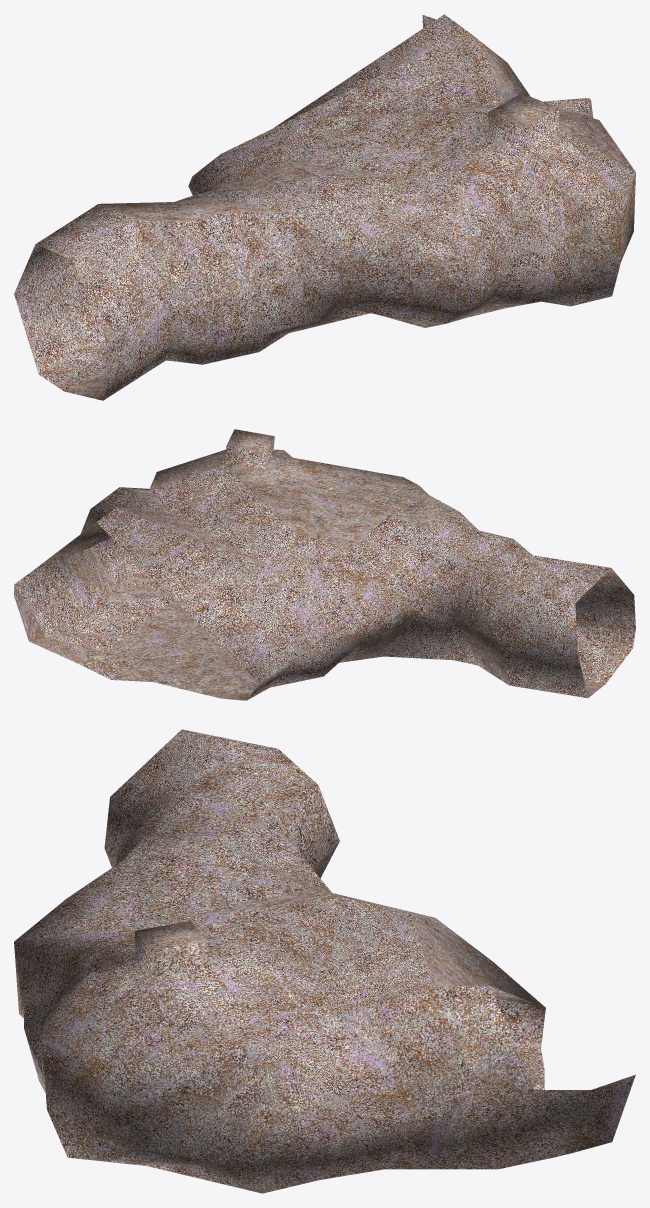
Rendered from Mine.fbx.
3 renders of one model, top to bottom at view 1: azimuth 30°, elevation 25°; view 2: azimuth 150°, elevation 25°; view 3: azimuth 270°, elevation 25°, orthographic. The views are drawn at different scales.
Parts seen in each view (by area): view 1: Plane; view 2: Plane; view 3: Plane.
Part boxes in pixels (x1=…): Plane: x1=14, y1=14, x2=635, y2=400; Plane: x1=14, y1=429, x2=635, y2=700; Plane: x1=14, y1=729, x2=635, y2=1193.
Size of the model in its own units: 4256 by 1264 by 3287.
Materials: 1 (1 with a texture image).
